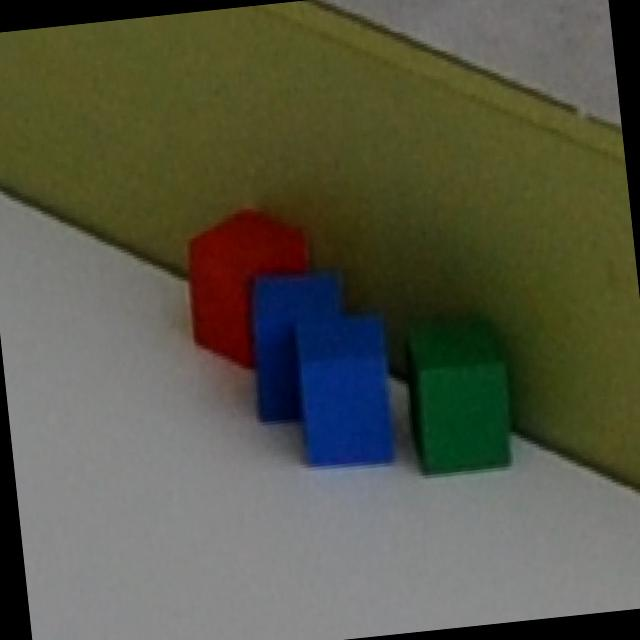bluecube: (295, 315, 393, 471), (251, 269, 341, 424)
green cube: (408, 313, 510, 474)
red cube: (184, 210, 306, 369)
